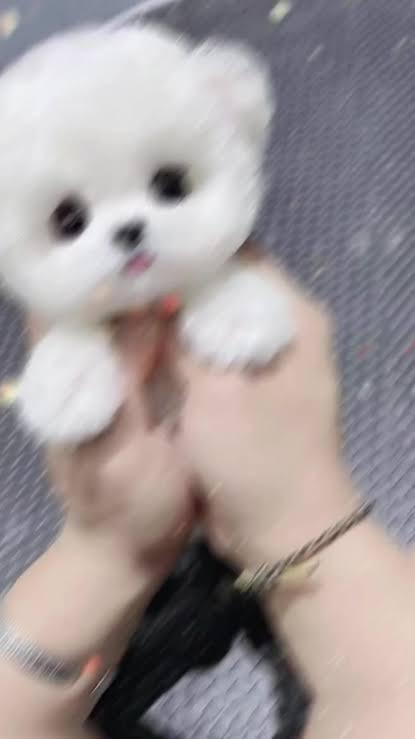puppy-dog: (0, 9, 309, 450)
